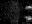person: (25, 15, 32, 22), (26, 6, 31, 11)
